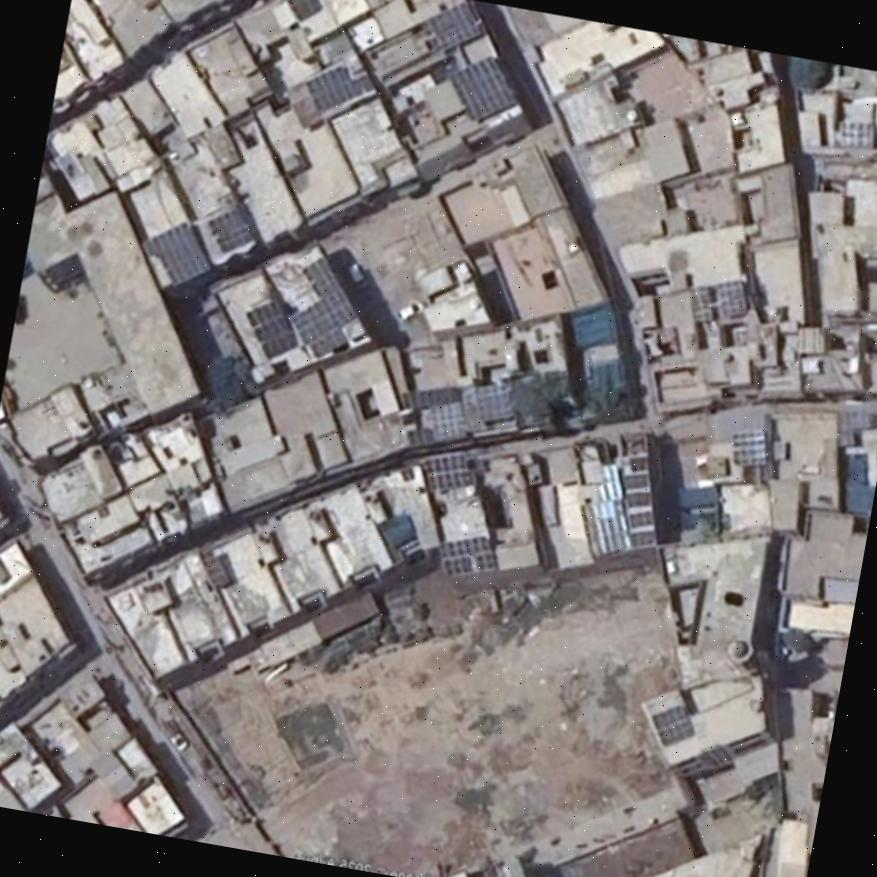Solarpanel: (273, 256, 368, 357), (449, 57, 515, 118), (152, 221, 208, 283), (425, 0, 483, 51), (247, 301, 296, 356), (307, 65, 362, 110), (438, 534, 497, 572), (420, 454, 473, 490), (206, 209, 254, 247), (652, 703, 693, 746), (735, 432, 765, 465), (289, 0, 331, 18), (625, 490, 651, 506), (631, 531, 655, 546), (624, 473, 648, 487), (631, 512, 652, 525)
